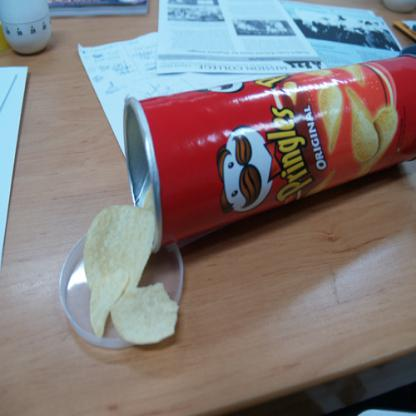potatochip: (122, 48, 415, 250)
